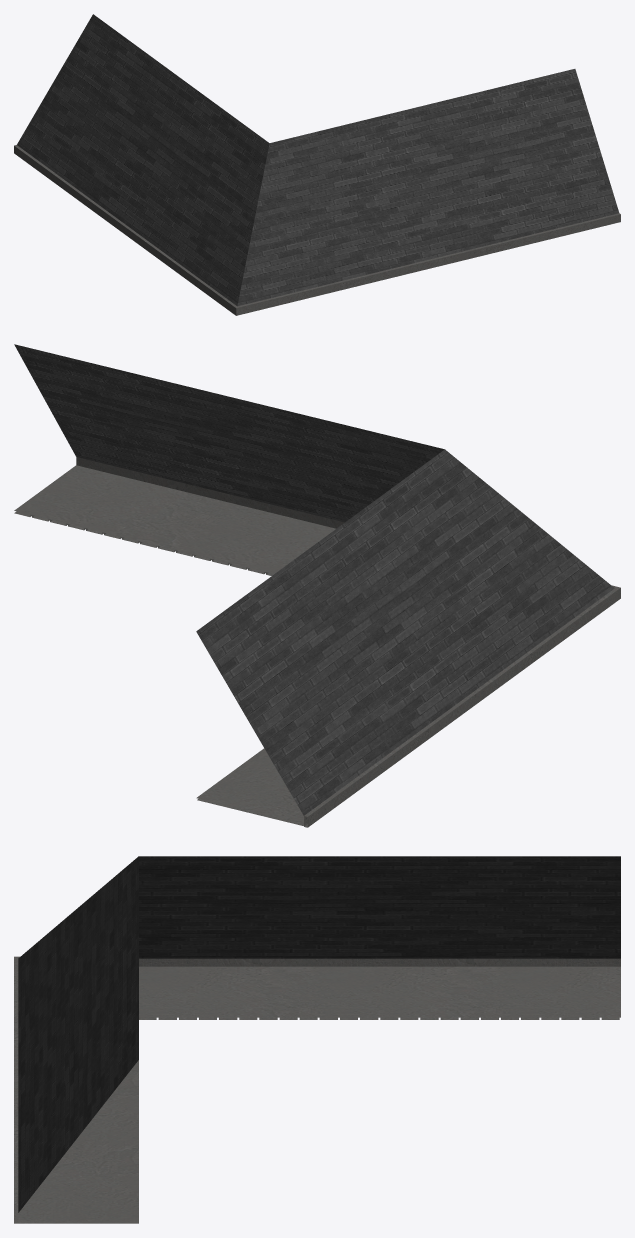
Rendered from Sm_Roof01d02.fbx.
The picture shows the model from 3 angles, top to bottom: view 1: azimuth 30°, elevation 25°; view 2: azimuth 150°, elevation 25°; view 3: azimuth 270°, elevation 25°; orthographic projection. The views are drawn at different scales.
Visible parts, largest first — view 1: Sm_Roof01d02; view 2: Sm_Roof01d02; view 3: Sm_Roof01d02.
Boxes of the visible parts, x1=… form: Sm_Roof01d02: x1=14, y1=14, x2=620, y2=315; Sm_Roof01d02: x1=14, y1=344, x2=620, y2=827; Sm_Roof01d02: x1=14, y1=856, x2=620, y2=1223.
Size of the model in its own units: 504 by 504 by 150.
2 materials, 2 textured.
